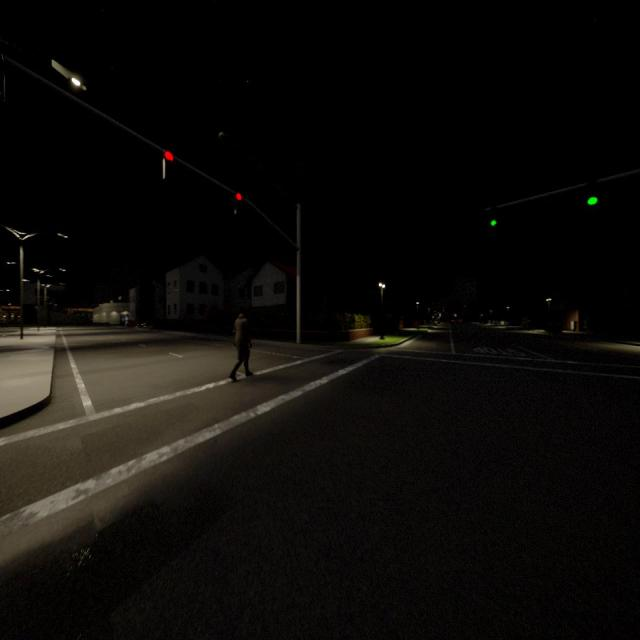Pedestrian: (230, 311, 252, 381)
traffic_light: (587, 184, 598, 205), (164, 150, 172, 178), (235, 193, 242, 213), (490, 209, 497, 226)
